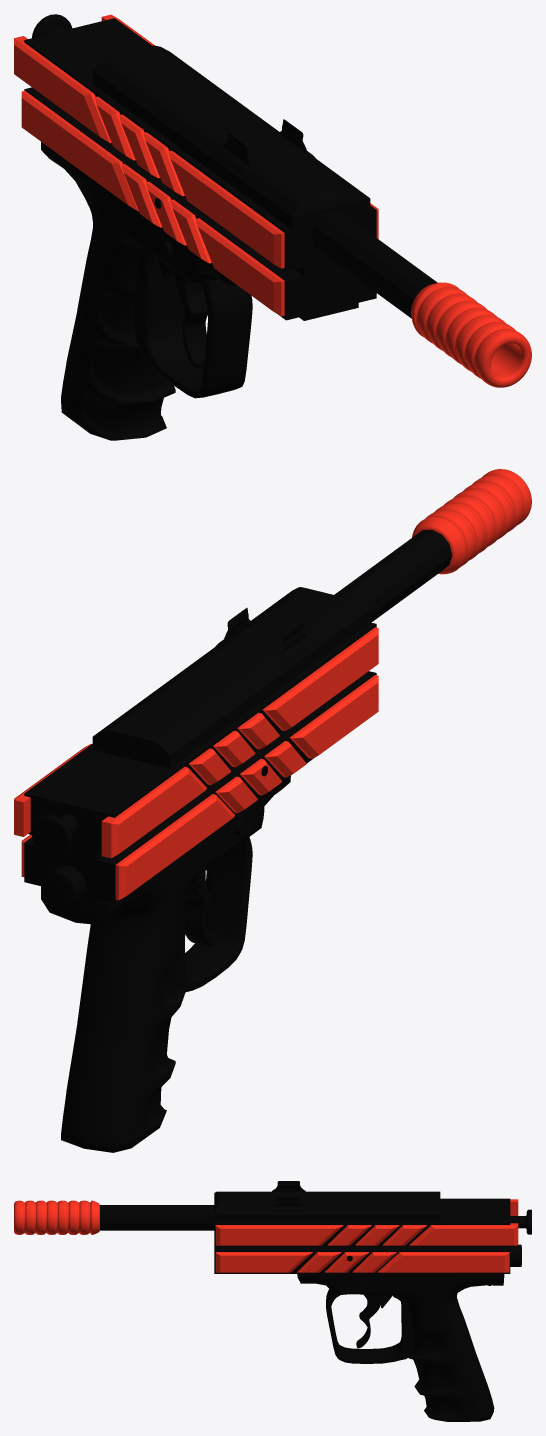
3 views of the same model, one above another, from view 1: azimuth 30°, elevation 25°; view 2: azimuth 150°, elevation 25°; view 3: azimuth 270°, elevation 25° (orthographic). The views are drawn at different scales.
Visible parts, largest first — view 1: Cube.035, Cube.034, Cube.032, Cylinder.040, Cube.036, Cylinder.041, Cube.022, Cube.026, Cube.023, Cube.027, Cube.024, Cube.025 (+3 smaller); view 2: Cube.034, Cube.035, Cube.032, Cylinder.040, Cube.036, Cylinder.041, Cube.023, Cube.026, Cube.022, Cube.027, Cube.024, Cube.025 (+4 smaller); view 3: Cube.034, Cube.035, Cylinder.041, Cylinder.040, Cube.036, Cube.026, Cube.022, Cube.023, Cube.032, Cube.027, Cube.024, Cube.025 (+3 smaller).
Part boxes in pixels (bbox=[...]): Cube.035: bbox=[24, 18, 376, 271]; Cube.034: bbox=[41, 142, 236, 440]; Cube.032: bbox=[133, 247, 252, 398]; Cylinder.040: bbox=[411, 282, 531, 387]; Cube.036: bbox=[24, 87, 376, 320]; Cylinder.041: bbox=[311, 211, 437, 318]; Cube.022: bbox=[168, 150, 378, 268]; Cube.026: bbox=[21, 91, 138, 211]; Cube.023: bbox=[14, 14, 154, 143]; Cube.027: bbox=[196, 218, 284, 316]; Cube.024: bbox=[95, 96, 184, 196]; Cube.025: bbox=[121, 163, 211, 263]; Cube.034: bbox=[41, 775, 290, 1152]; Cube.035: bbox=[24, 587, 376, 855]; Cube.032: bbox=[174, 837, 252, 991]; Cylinder.040: bbox=[412, 469, 531, 574]; Cube.036: bbox=[24, 671, 376, 904]; Cylinder.041: bbox=[334, 529, 452, 622]; Cube.023: bbox=[14, 744, 206, 858]; Cube.026: bbox=[21, 794, 235, 900]; Cube.022: bbox=[262, 627, 378, 730]; Cube.027: bbox=[289, 675, 378, 758]; Cube.024: bbox=[189, 712, 279, 785]; Cube.025: bbox=[215, 741, 306, 813]; Cube.034: bbox=[297, 1274, 504, 1421]; Cube.035: bbox=[214, 1191, 510, 1245]; Cylinder.041: bbox=[100, 1205, 214, 1230]; Cylinder.040: bbox=[14, 1200, 99, 1234]; Cube.036: bbox=[214, 1246, 510, 1273]; Cube.026: bbox=[377, 1252, 509, 1272]; Cube.022: bbox=[215, 1225, 343, 1245]; Cube.023: bbox=[409, 1199, 518, 1245]; Cube.032: bbox=[326, 1289, 414, 1363]; Cube.027: bbox=[215, 1252, 312, 1272]; Cube.024: bbox=[327, 1225, 426, 1245]; Cube.025: bbox=[297, 1252, 396, 1272].
Size of the model in its own units: 93.05 by 328 by 682.
